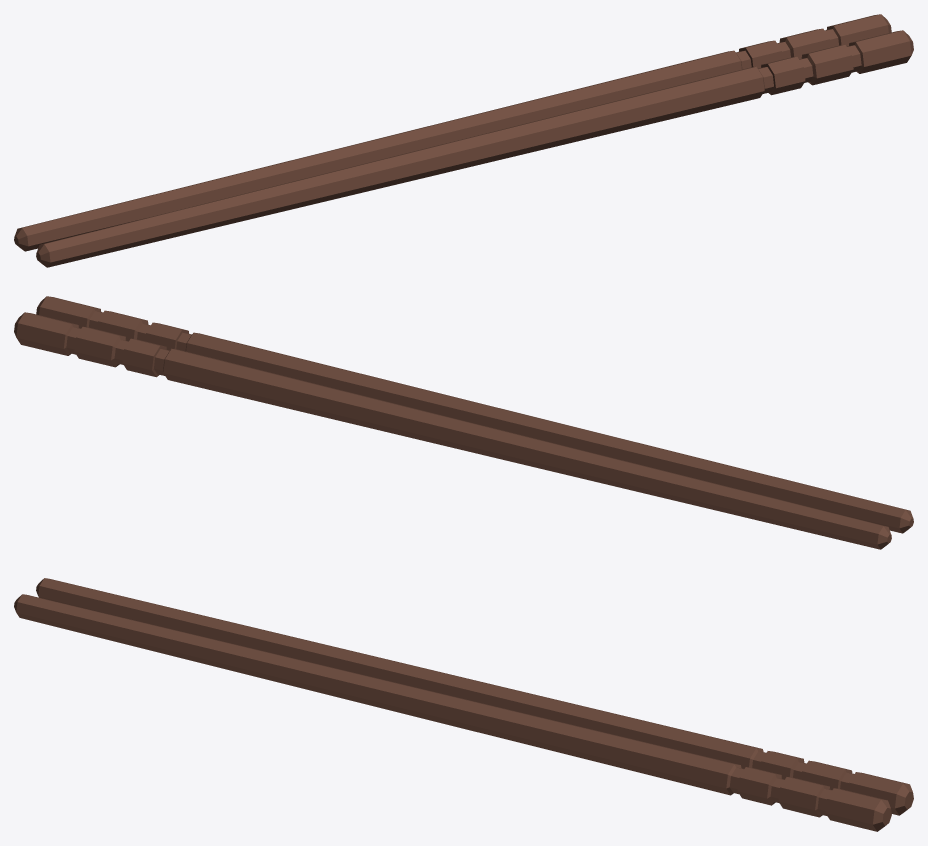
Rendered from Chopsticks.glb.
3 views of the same model, one above another, from view 1: azimuth 30°, elevation 25°; view 2: azimuth 150°, elevation 25°; view 3: azimuth 330°, elevation 25° (orthographic).
Parts seen in each view (by area): view 1: Chopsticks; view 2: Chopsticks; view 3: Chopsticks.
Part boxes in pixels (<box>): Chopsticks: <box>14,14,913,267</box>; Chopsticks: <box>14,296,913,549</box>; Chopsticks: <box>14,578,913,831</box>.
Size of the model in its own units: 1.63 by 0.0532 by 0.1261.
